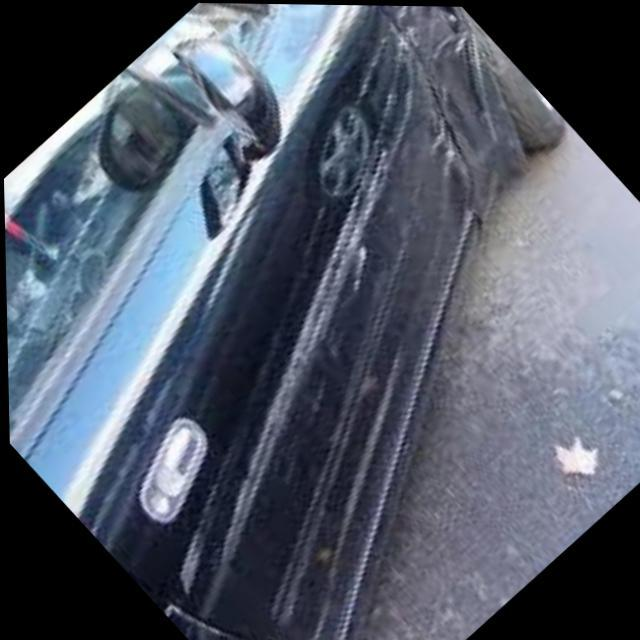rub: (156, 4, 531, 640)
